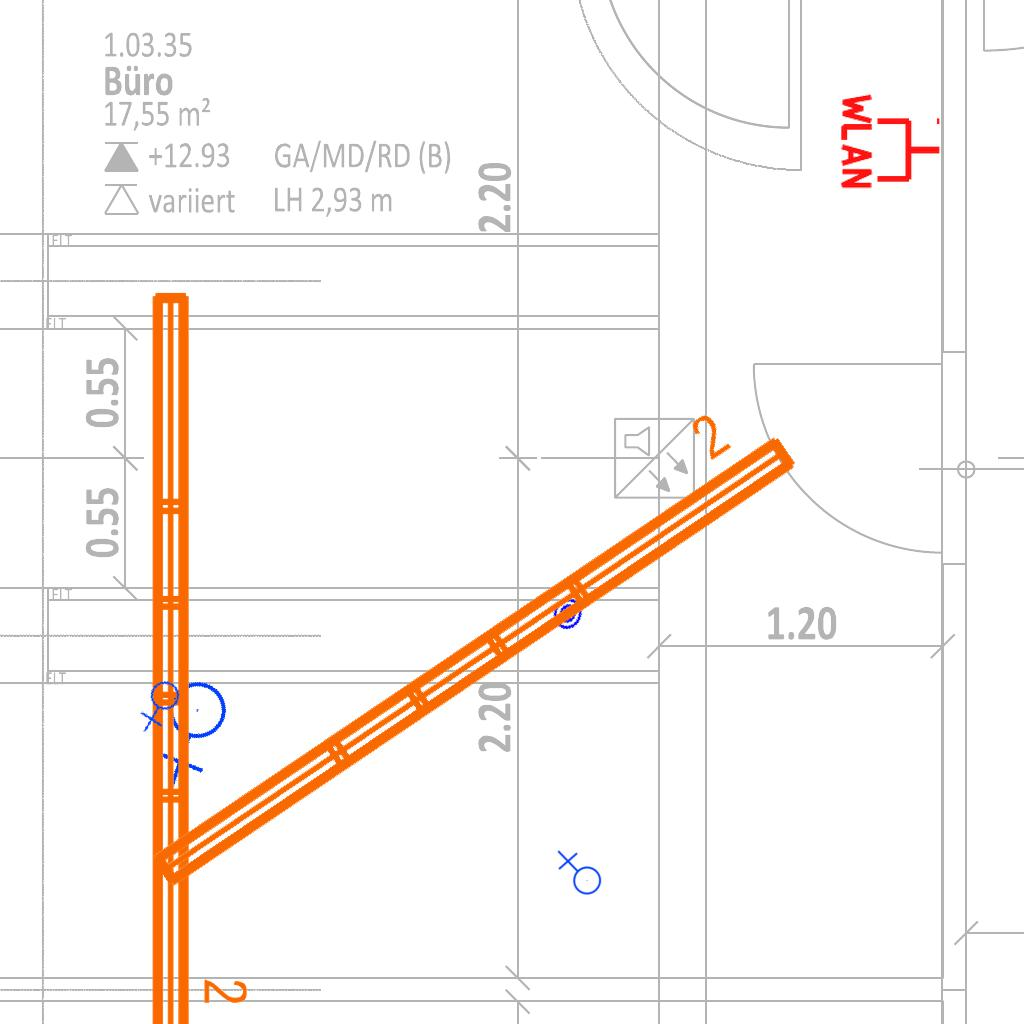Ambulanz_Pendelleuchte_LED: (106, 378, 812, 904), (140, 282, 252, 1024)
Elektroanschluss_allgemein_230V_Geraeteanschlussdose_230V: (129, 666, 260, 796), (131, 676, 192, 735), (555, 850, 602, 899)
Taster_beleuchtet: (546, 592, 589, 635)
WLAN: (839, 89, 944, 193)
